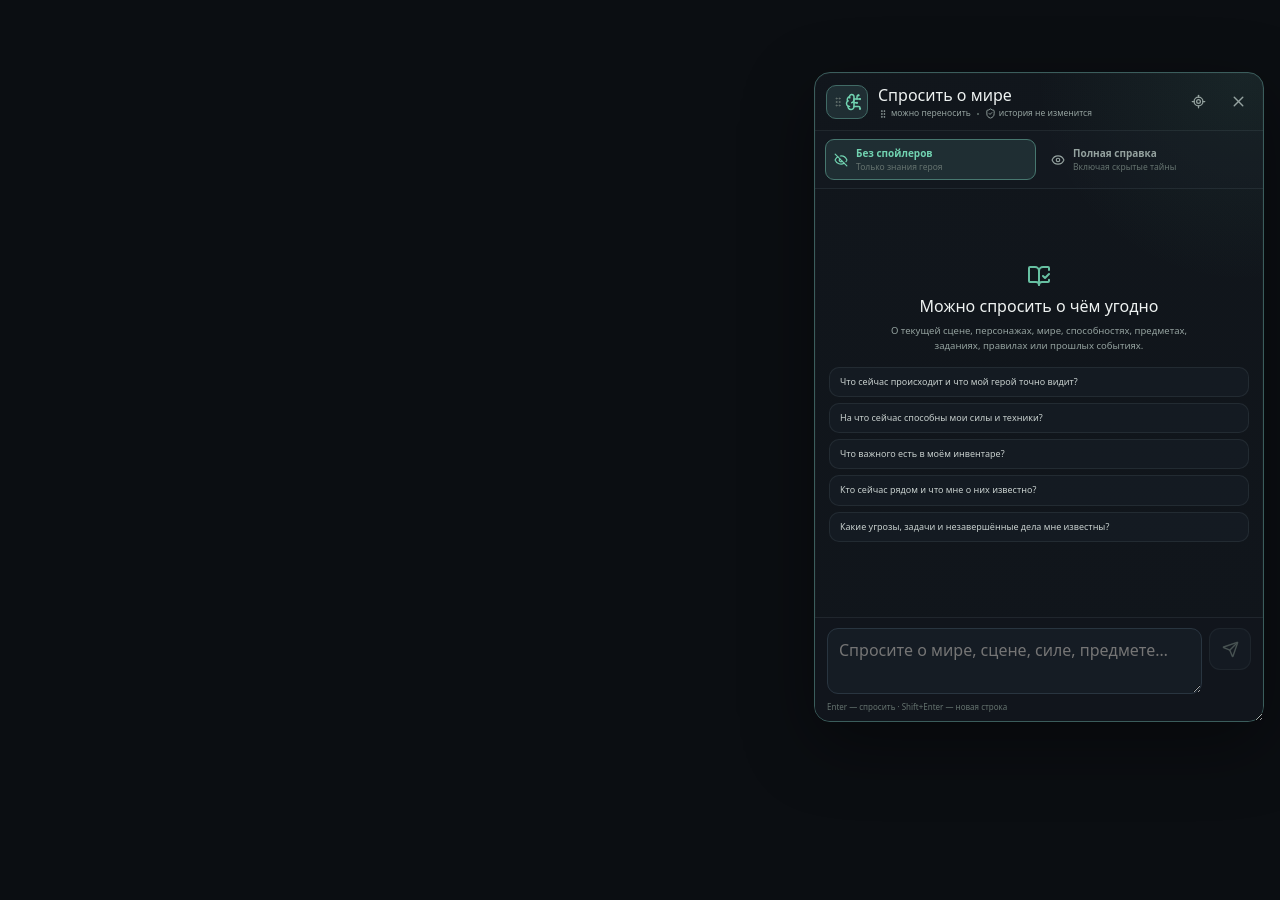
Test: world question panel › asks without a character limit and keeps the request separate from campaign mutations
Check: the text "Спросить о мире" is shown, box [878,84,1012,106]
Check: the text "история не изменится" is shown, box [985,108,1092,119]
Type "Что происходит сейчас?" into the text box named "Вопрос о кампании" at [1014, 661], box [827,628,1202,694]
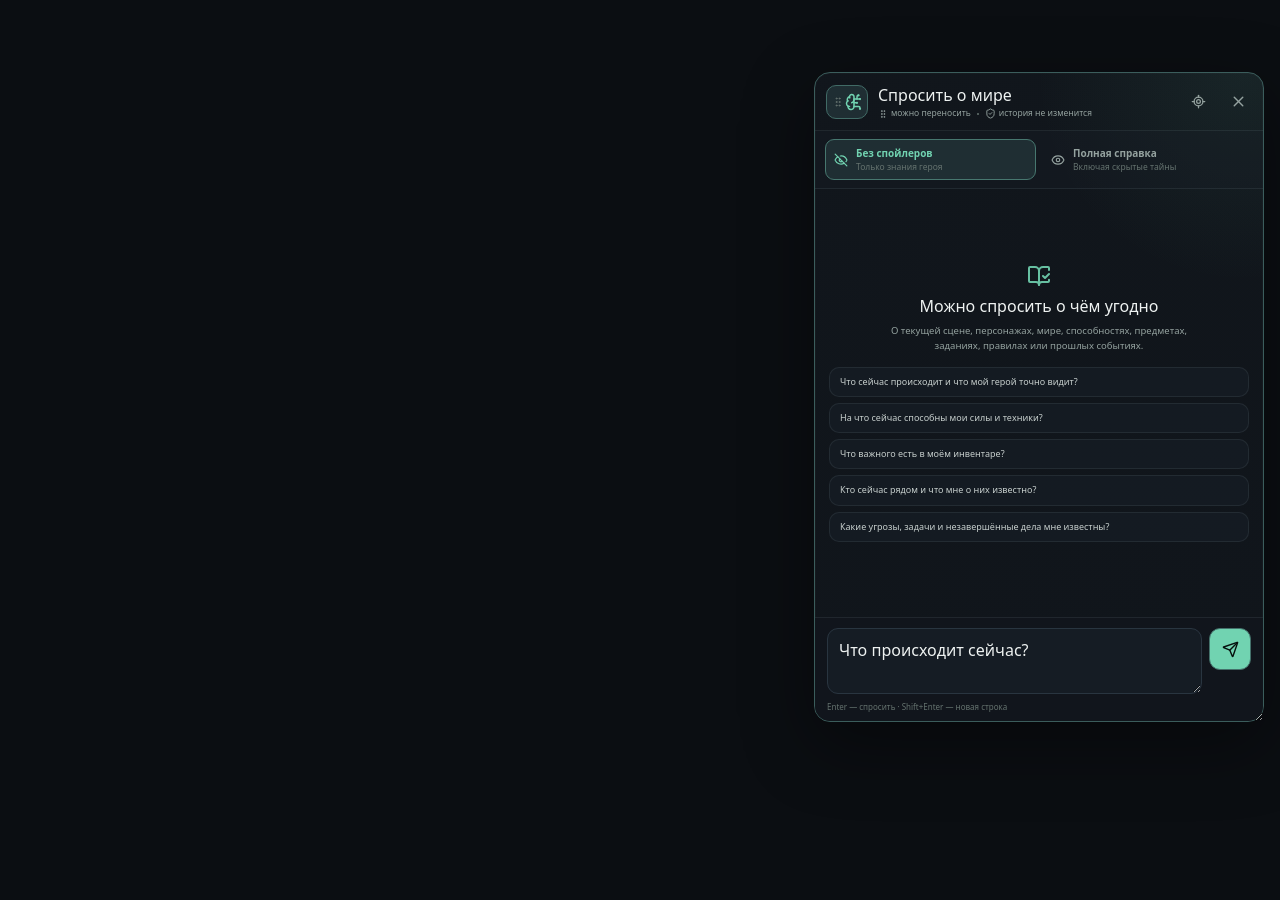
Click the button named "Задать вопрос" at [1230, 649], box [1209,628,1251,670]
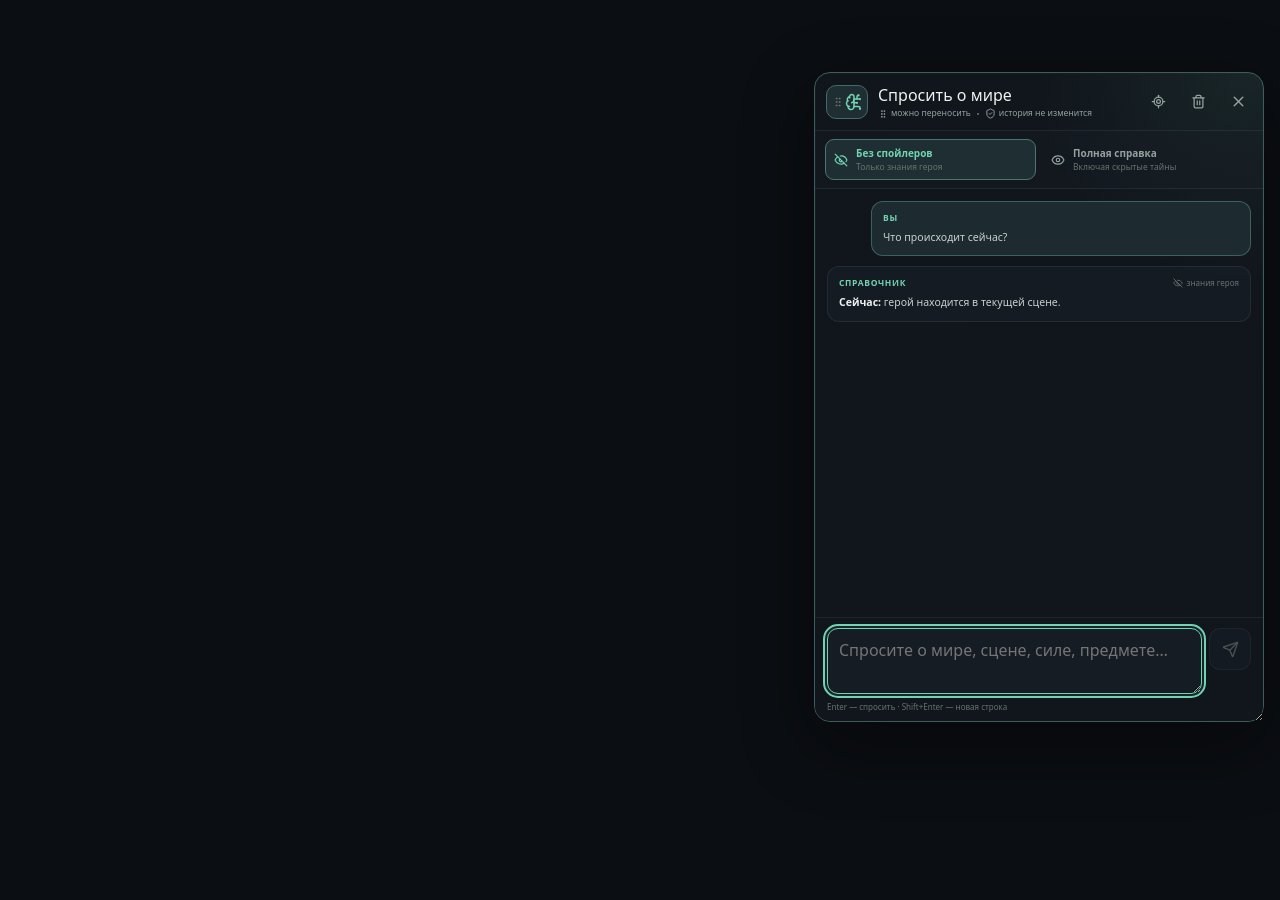
Check: the text "Сейчас:" is shown, box [839,295,881,309]
Check: the text "герой находится в текущей сцене." is shown, box [881,295,1061,309]
